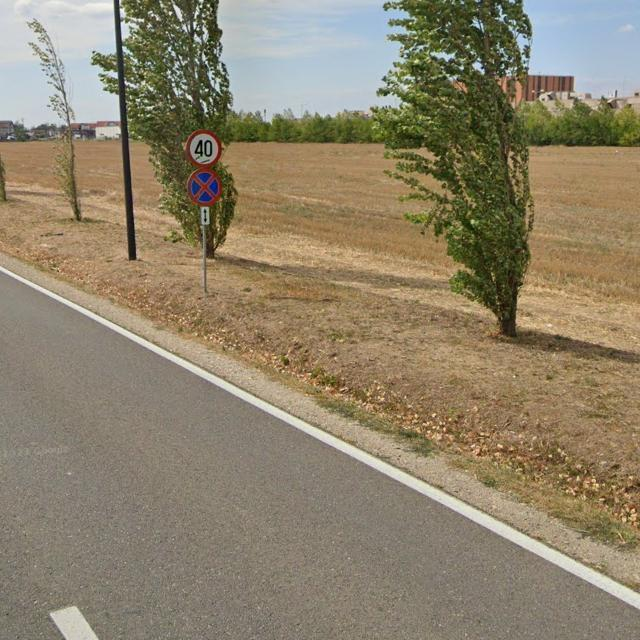forb_speed_over_40: (186, 130, 221, 169)
forb_waiting: (188, 169, 222, 205)
